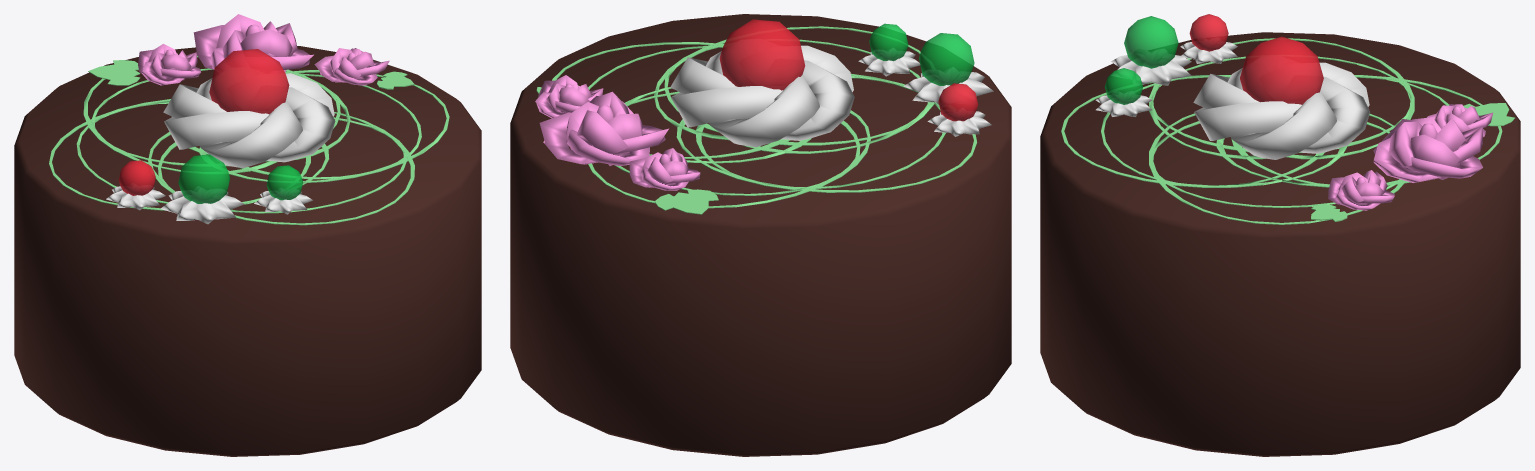
The model's file is cake.glb.
The picture shows the model from 3 angles, left to right: view 1: azimuth 30°, elevation 25°; view 2: azimuth 150°, elevation 25°; view 3: azimuth 270°, elevation 25°; orthographic projection. The views are drawn at different scales.
Parts seen in each view (by area): view 1: TorusKnot.003; view 2: TorusKnot.003; view 3: TorusKnot.003.
Part boxes in pixels (x1,y1,x2,y2): TorusKnot.003: (14,14,481,456); TorusKnot.003: (510,14,1011,456); TorusKnot.003: (1040,14,1520,456).
Bounding box in the file's own units: 1.99 × 1.45 × 1.99.
